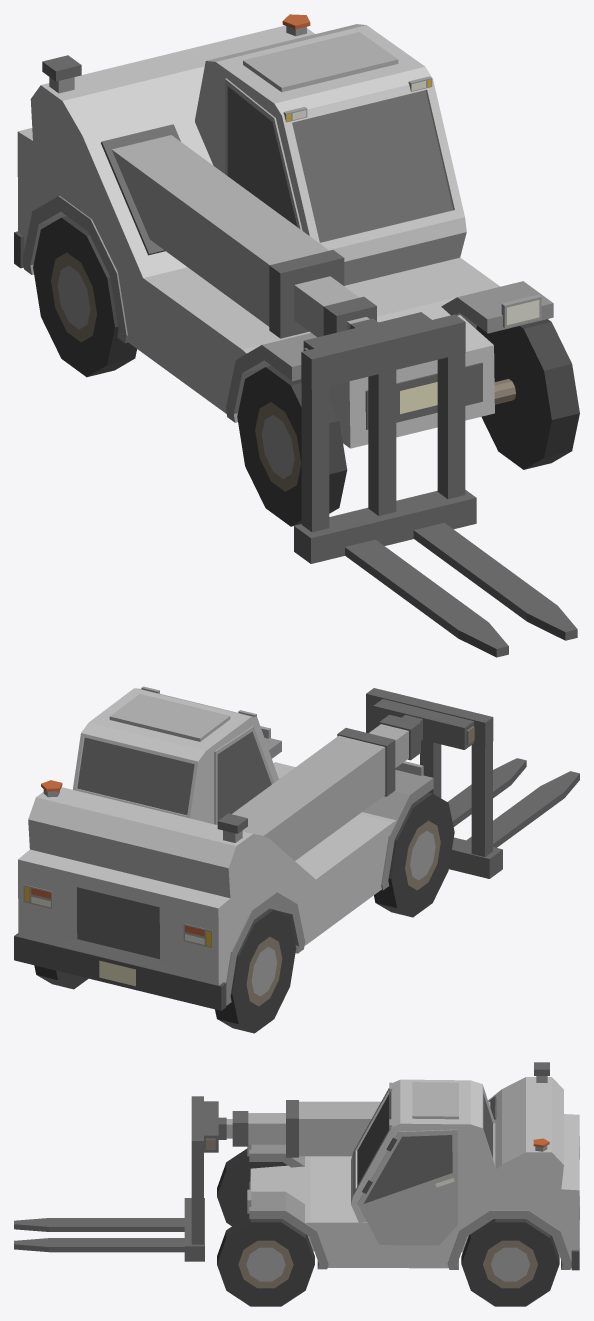
Rendered from kar5.fbx.
3 views of the same model, one above another, from view 1: azimuth 30°, elevation 25°; view 2: azimuth 150°, elevation 25°; view 3: azimuth 270°, elevation 25° (orthographic). The views are drawn at different scales.
Parts seen in each view (by area): view 1: Cylinder_5, Cube_26, Cube_17, Cylinder, Cylinder_4, Cylinder_3, Cube_23; view 2: Cylinder_5, Cube_26, Cube_17, Cylinder_3, Cylinder_4, Cube_23, Cylinder_2; view 3: Cylinder_5, Cube_26, Cylinder, Cylinder_2, Cube_17, Cylinder_3, Cube_23, Cube_21.
Boxes of the visible parts, x1,y1,x2,y2 form: Cylinder_5: (14,14,553,448); Cube_26: (294,312,577,657); Cube_17: (111,135,344,338); Cylinder: (476,319,579,469); Cylinder_4: (33,216,136,377); Cylinder_3: (237,365,347,526); Cube_23: (294,276,376,337); Cylinder_5: (14,686,433,1010); Cube_26: (366,688,579,878); Cube_17: (217,728,395,860); Cylinder_3: (374,792,454,917); Cylinder_4: (215,908,296,1033); Cube_23: (369,714,420,767); Cylinder_2: (34,965,88,989); Cylinder_5: (247,1062,579,1270); Cube_26: (14,1096,218,1261); Cylinder: (217,1215,314,1306); Cylinder_2: (461,1219,559,1306); Cube_17: (286,1100,490,1157); Cylinder_3: (217,1148,287,1225); Cube_23: (232,1111,285,1146); Cube_21: (206,1117,232,1149).
Bounding box in the file's own units: 199 × 196 × 542.
